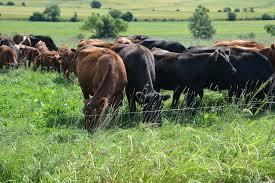cow: (149, 47, 238, 114), (109, 43, 172, 125), (73, 46, 128, 134), (13, 44, 41, 70), (0, 42, 20, 73), (40, 52, 61, 74)
